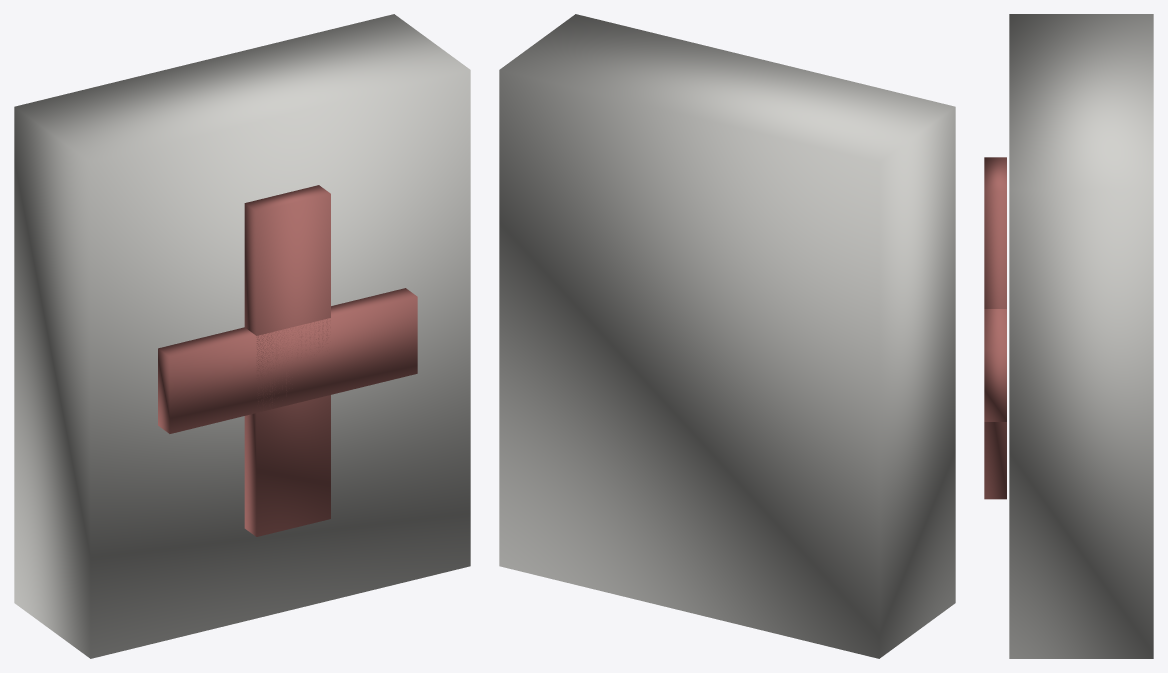
Rendered from first_aid_wall_cabinet__reinforced.glb.
The picture shows the model from 3 angles, left to right: view 1: azimuth 30°, elevation 25°; view 2: azimuth 150°, elevation 25°; view 3: azimuth 270°, elevation 25°; orthographic projection. The views are drawn at different scales.
Visible parts, largest first — view 1: world; view 2: world; view 3: world.
Boxes of the visible parts, bbox=[...] form: world: bbox=[14, 14, 470, 658]; world: bbox=[499, 14, 955, 658]; world: bbox=[984, 14, 1153, 658].
Size of the model in its own units: 0.4738 by 0.5916 by 0.1931.
